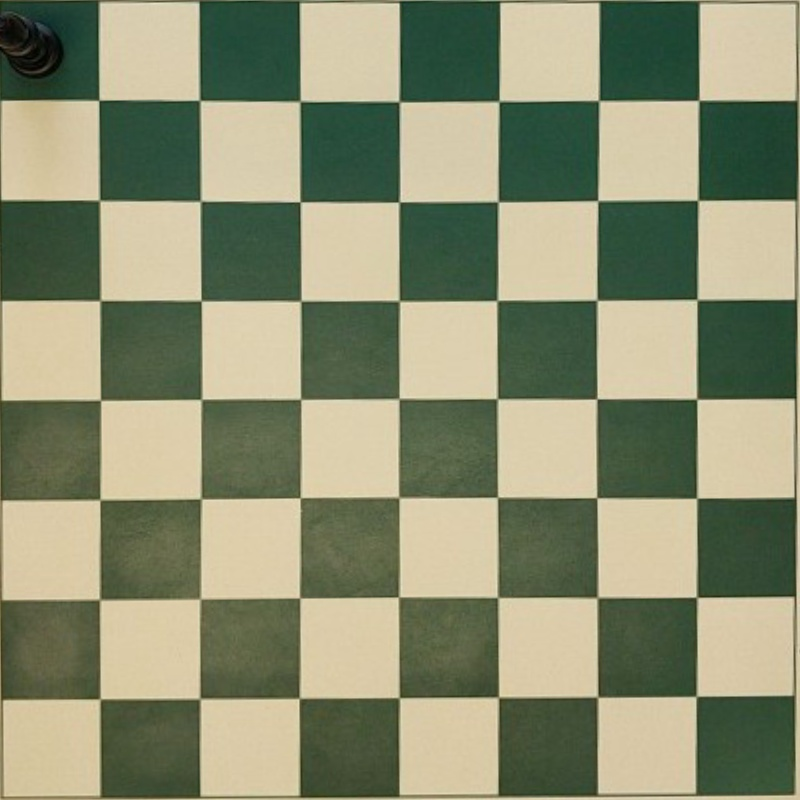black-bishop: (0, 11, 61, 77)
